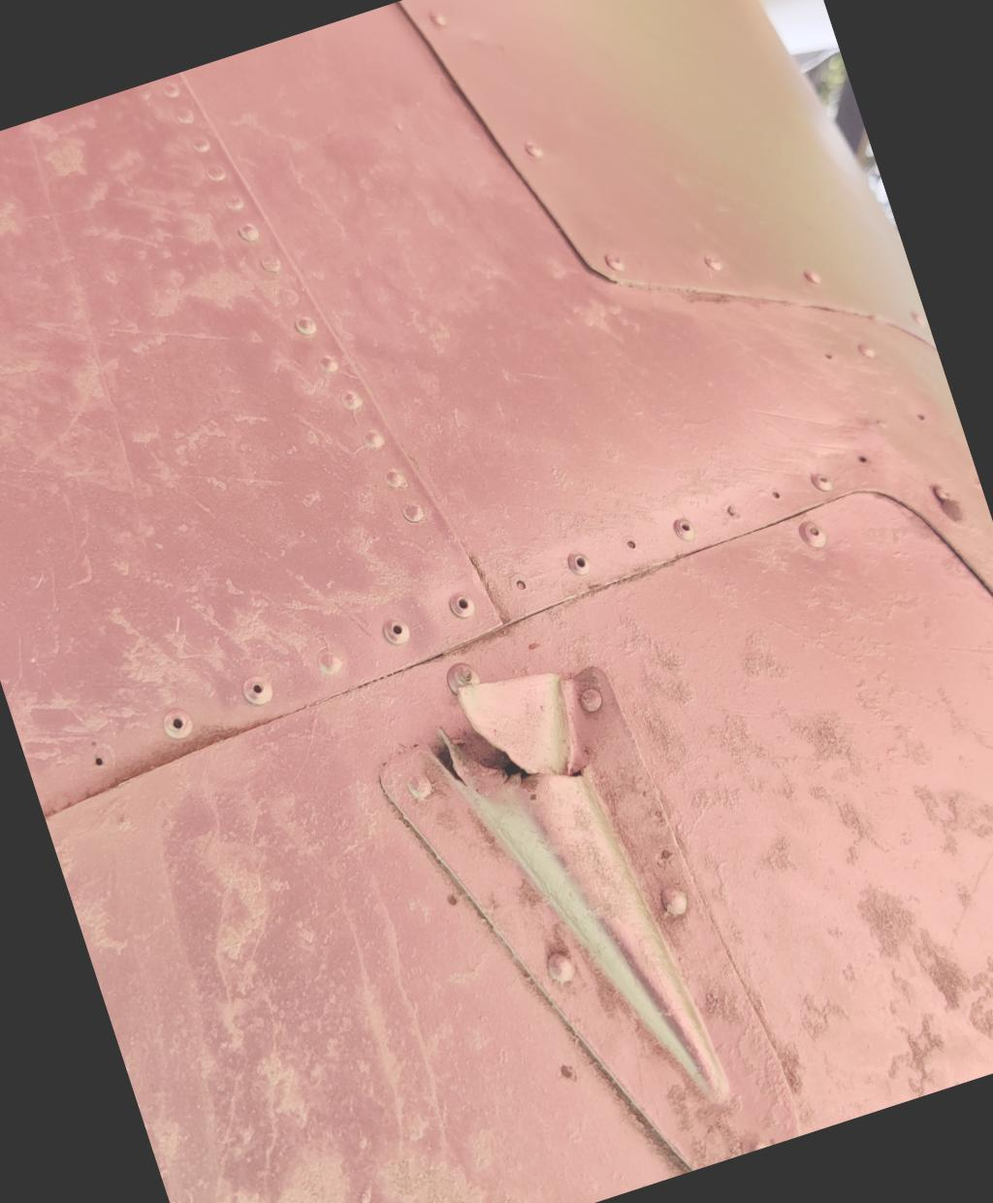crack: (382, 608, 643, 873)
